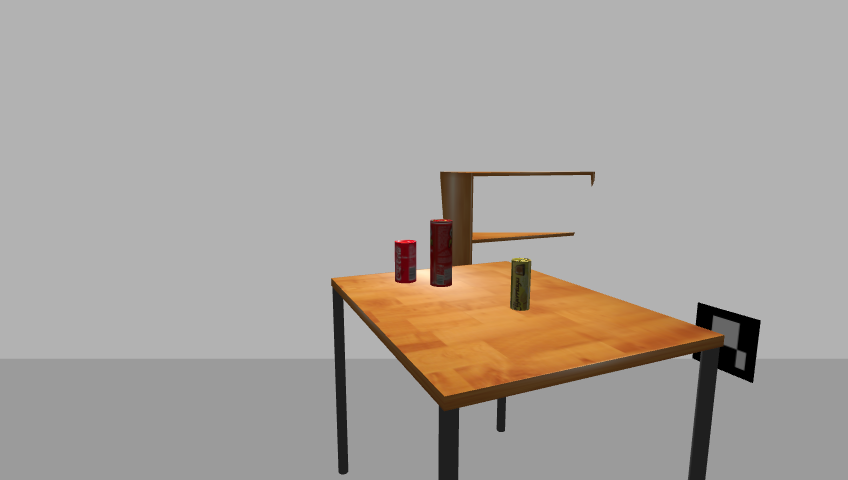aruco marker: (689, 301, 765, 385)
biscuits pack: (509, 258, 533, 312)
bookshelf: (435, 167, 601, 330)
coke can: (427, 218, 455, 288), (393, 240, 418, 285)
dinner table: (323, 261, 730, 480)
